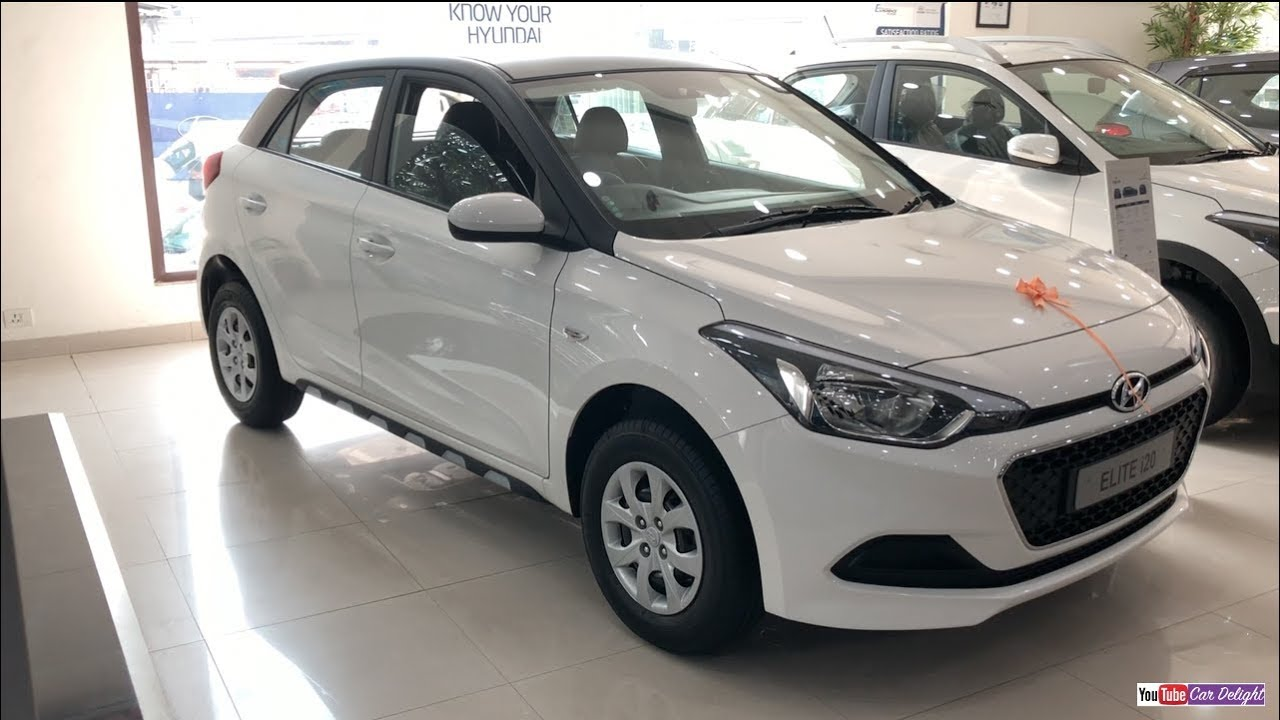i20: (174, 24, 1231, 675)
